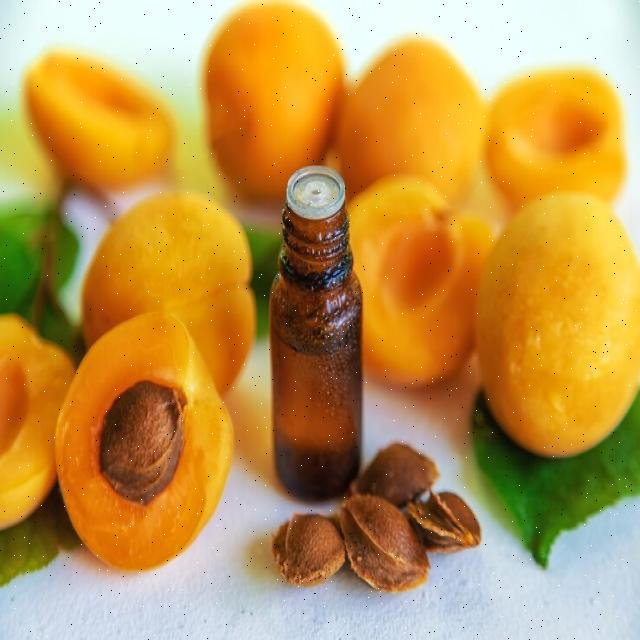Cekirdek: (101, 380, 184, 505), (338, 497, 429, 591), (272, 514, 345, 585), (358, 443, 439, 506), (404, 489, 480, 550)
Kayisi: (477, 195, 640, 454), (83, 192, 255, 395), (351, 178, 494, 386), (204, 1, 345, 201), (335, 38, 486, 200), (24, 51, 176, 190), (487, 69, 626, 210)
